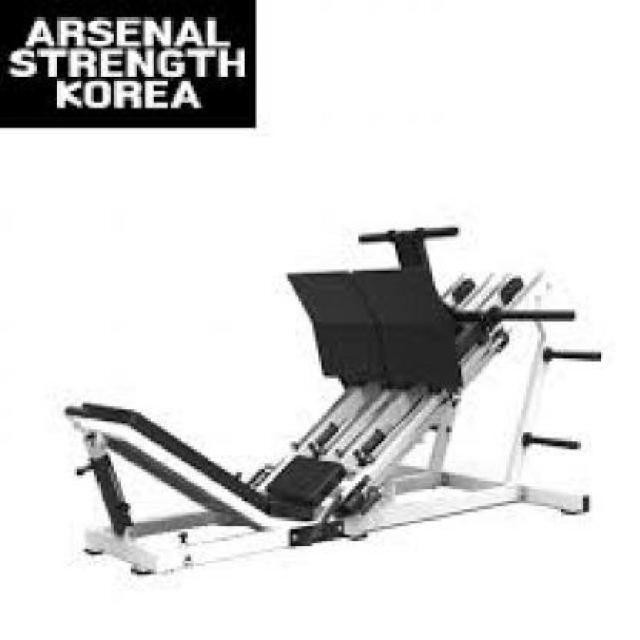leg press: (54, 202, 608, 592)
